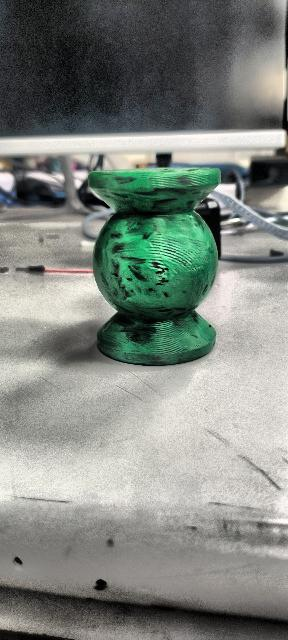green: (88, 167, 222, 366)
